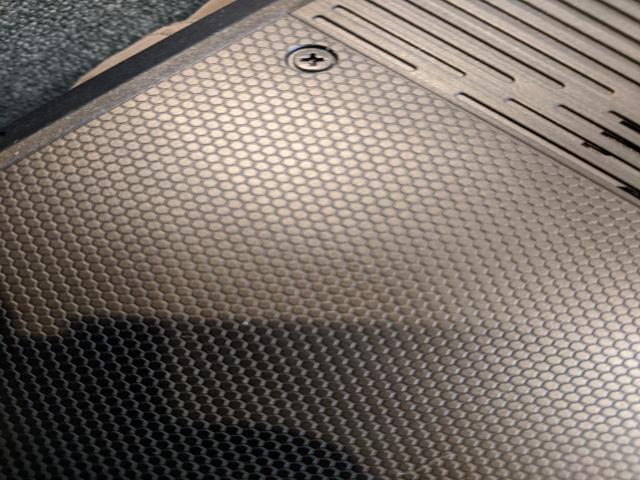CRS: (292, 47, 336, 71)
